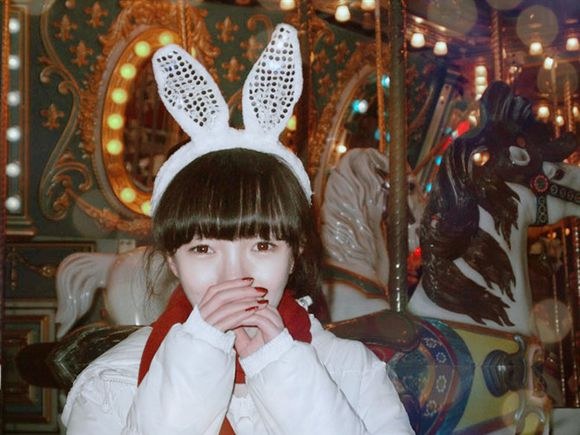face: (177, 197, 291, 338)
